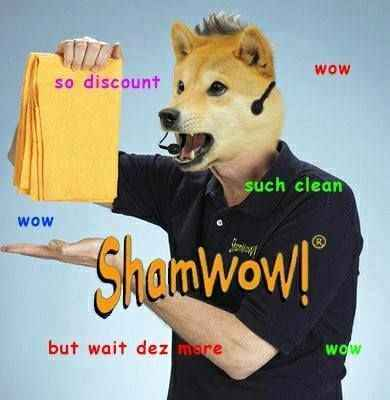doge: (158, 28, 288, 178)
